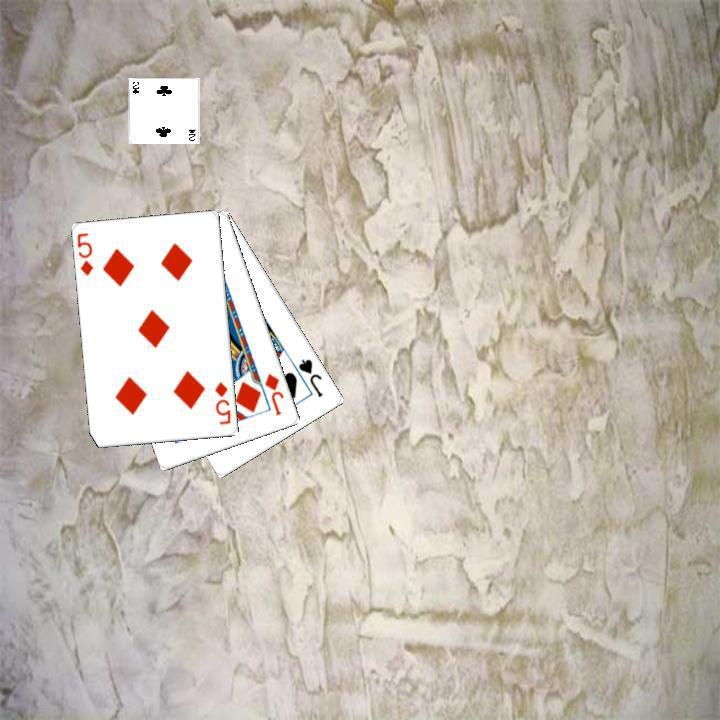5: (210, 378, 233, 427), (73, 229, 95, 278)
J: (294, 354, 325, 399), (260, 369, 286, 417)
